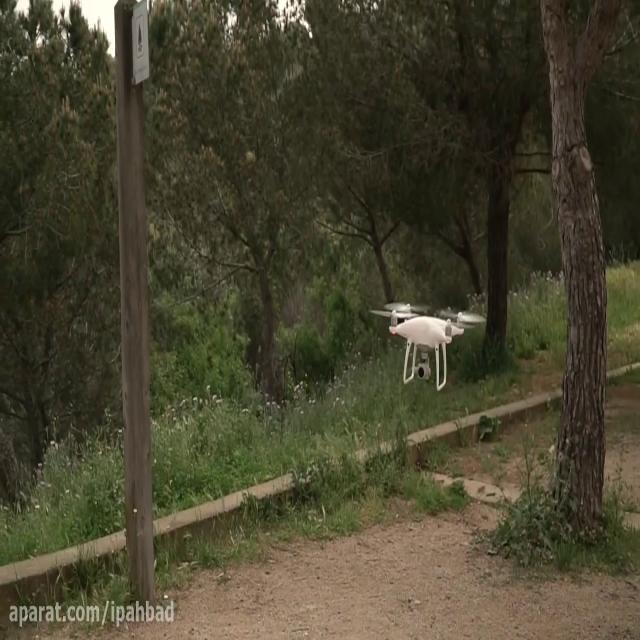drone: (369, 302, 488, 388)
